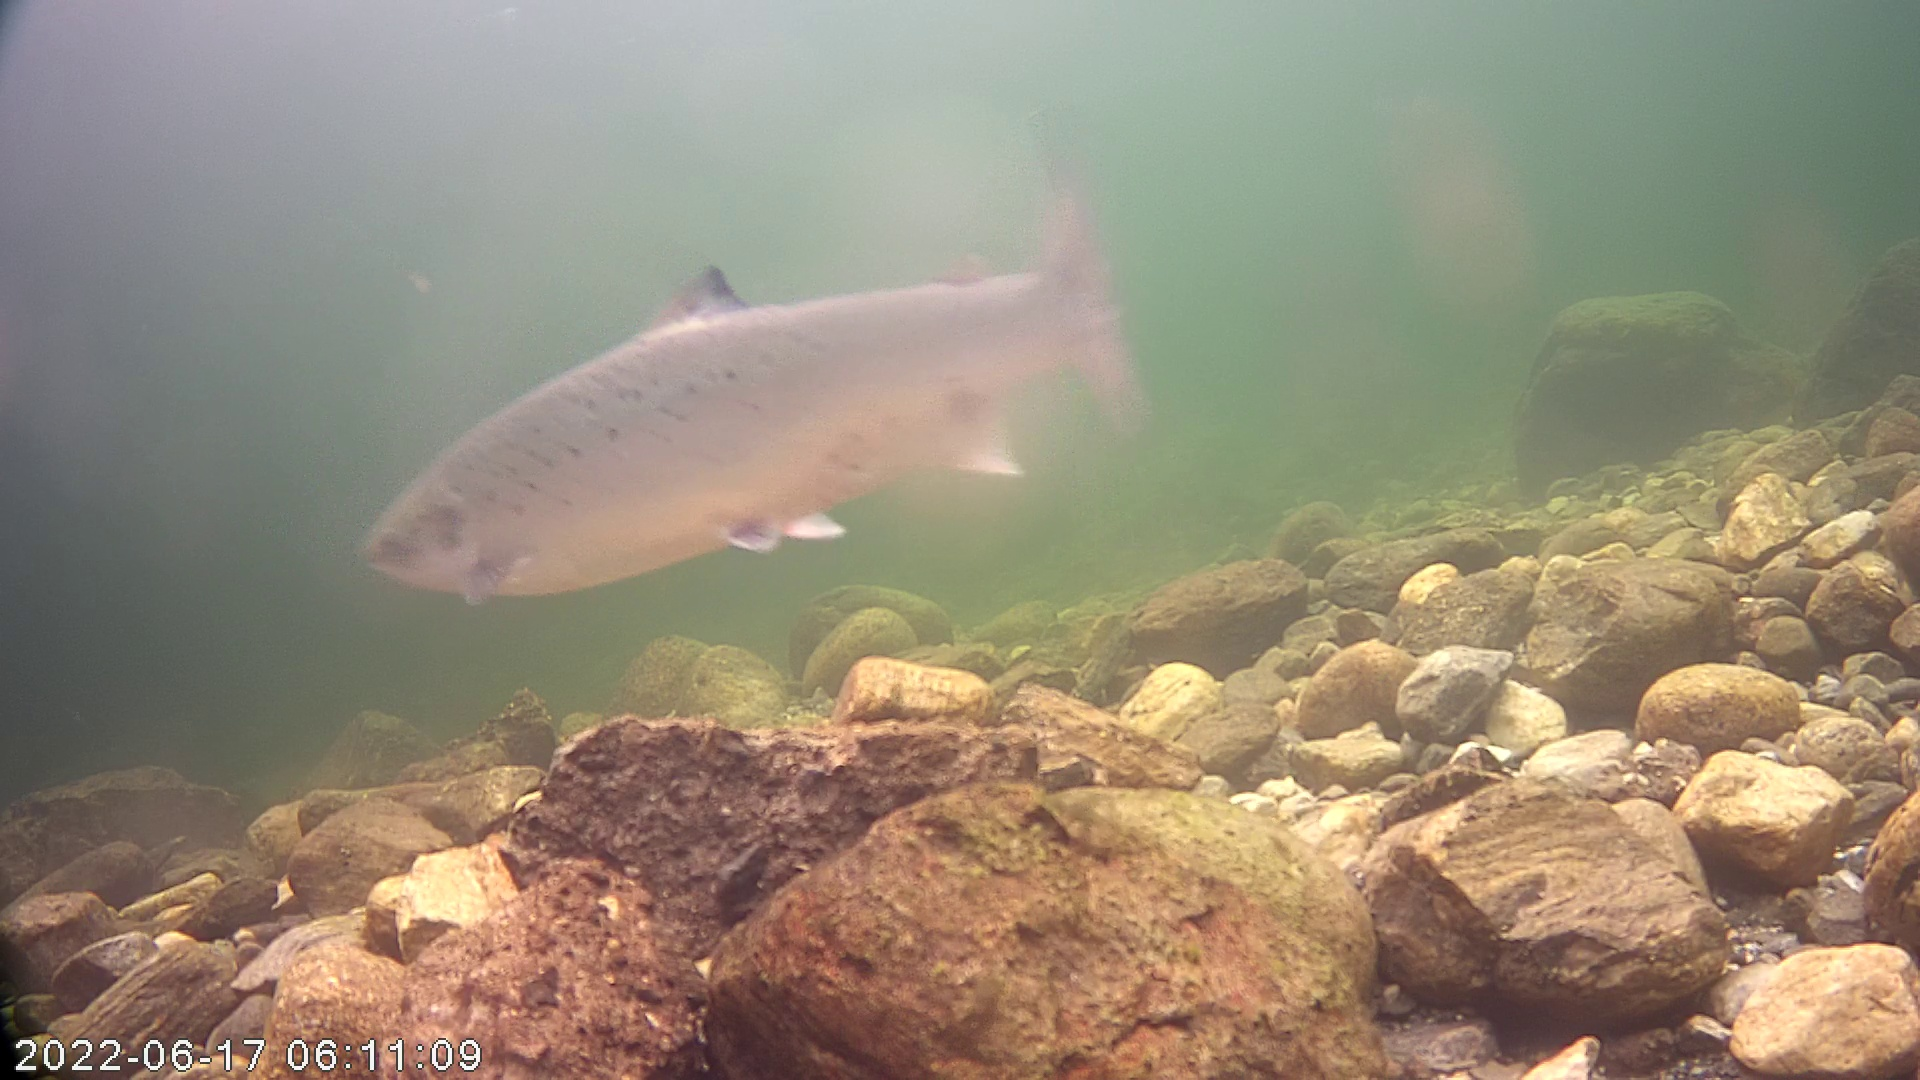salmon: (356, 170, 1168, 611)
